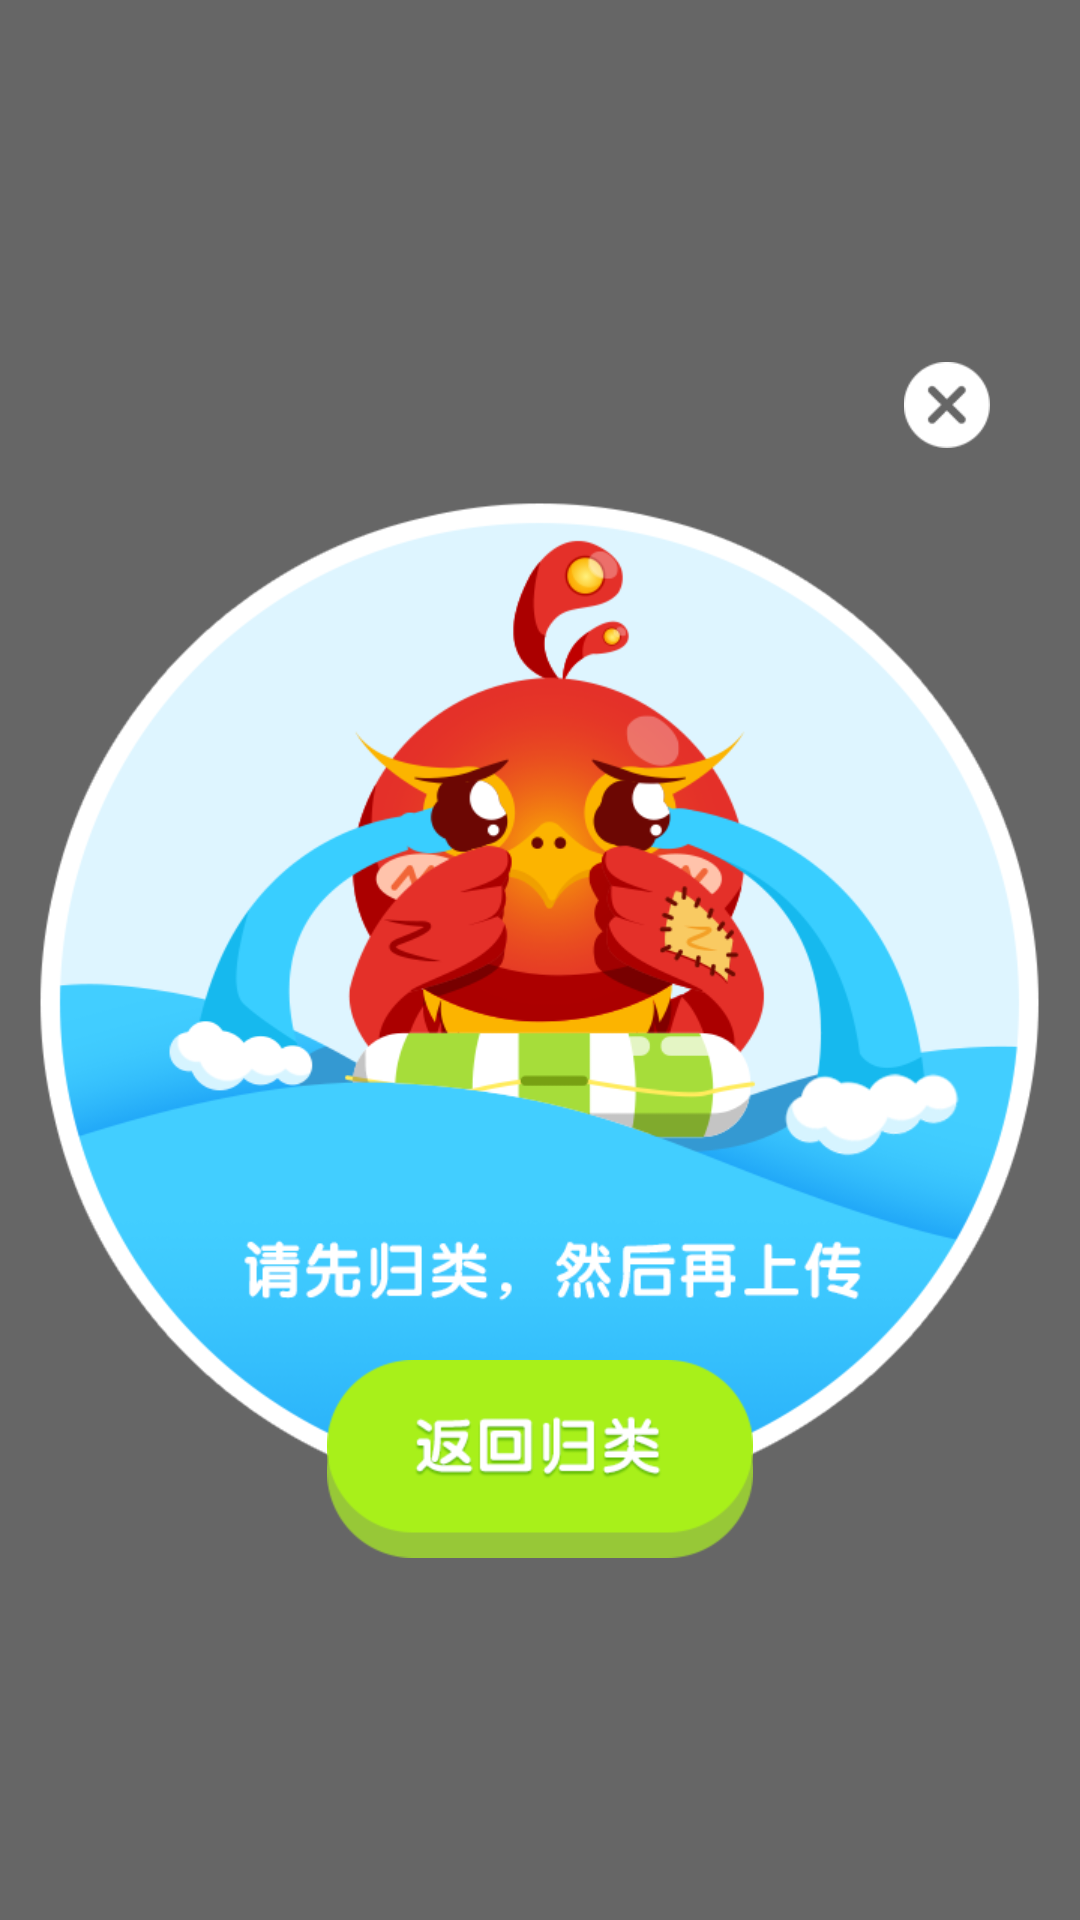

Icon bounding boxes for this 1080 × 1920 phone screenshot, format (x1, y1, x2, y2):
weiguilei close: (904, 362, 990, 448)
